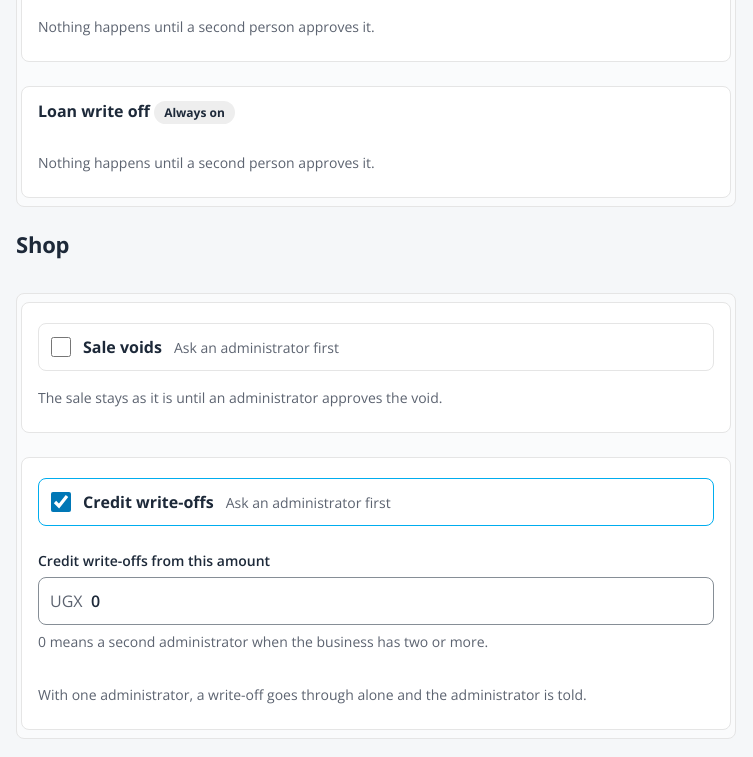
Scenario: the approval rules screen › shows a refused proof in plain words and keeps the review open
The image size is (753, 757).
(page scrolled)
Step 1. Click the checkbox labelled "Sale voids Ask an administrator first" → coordinates (61, 347), box [51,337,71,357]
(page scrolled)
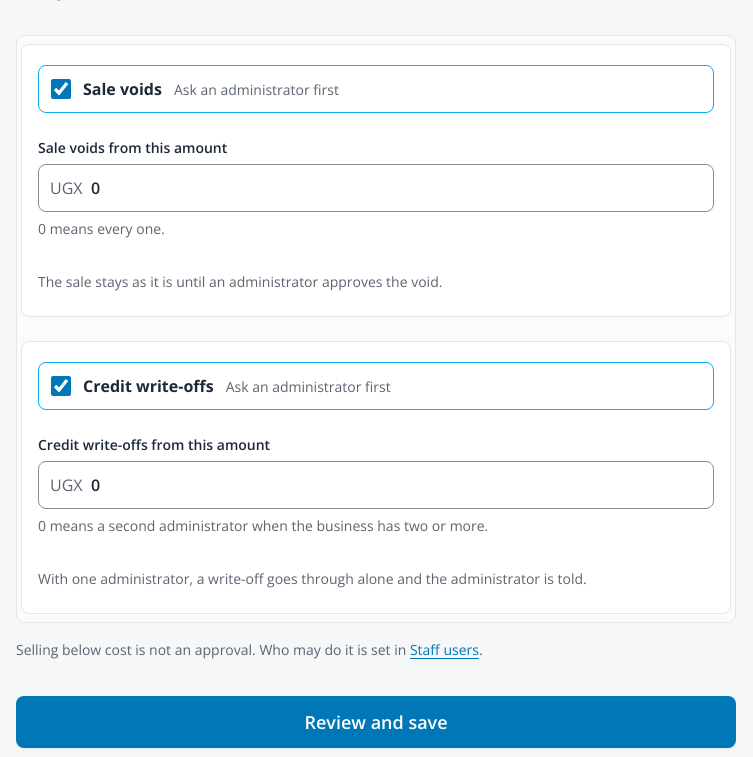
Step 2. Click the button "Review and save" → coordinates (376, 722), box [16,696,736,748]
(page scrolled)
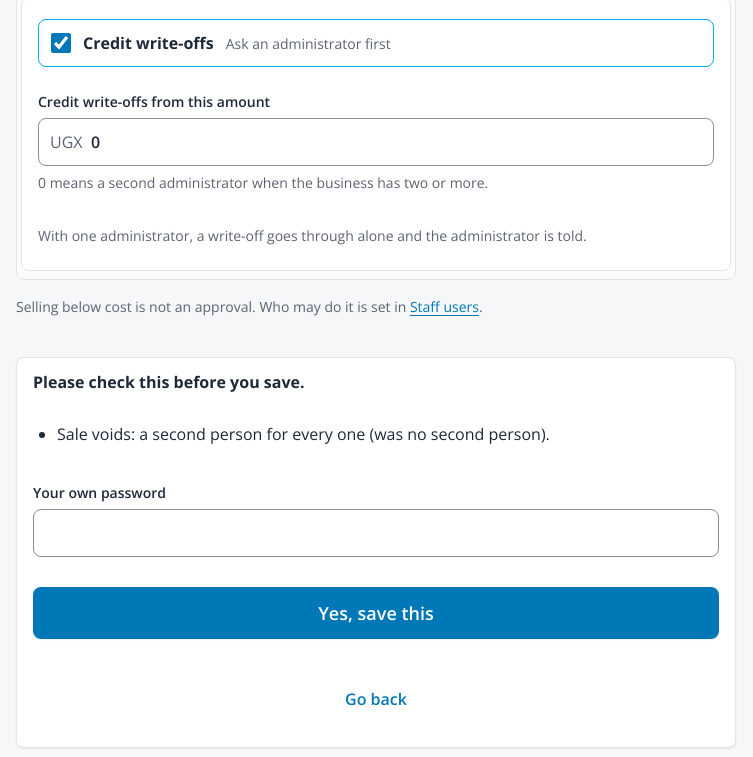
Step 3. Type "wrong" into the password field labelled "Your own password" → coordinates (376, 533), box [33,509,719,557]
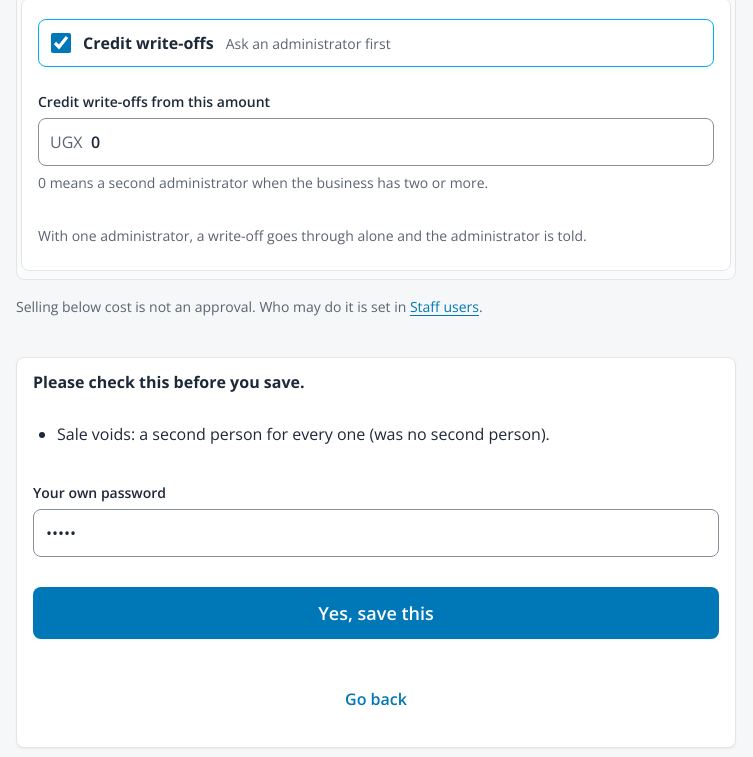
Step 4. Click the button "Yes, save this" → coordinates (376, 613), box [33,587,719,639]
(page scrolled)
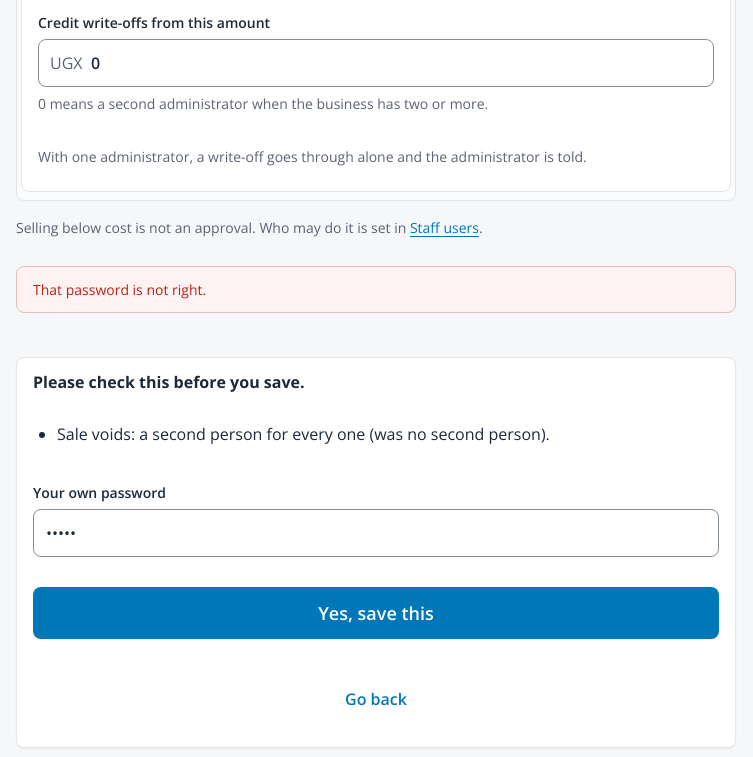
Expected: the element named "Check before you save" is shown, [16,357,736,748]
Expected: the message reads "That password is not right.", [33,280,206,299]
